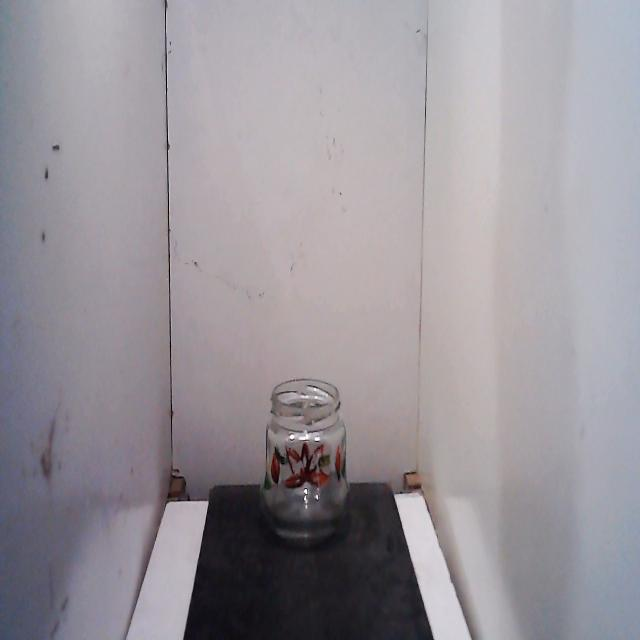vidro: (253, 369, 358, 563)
